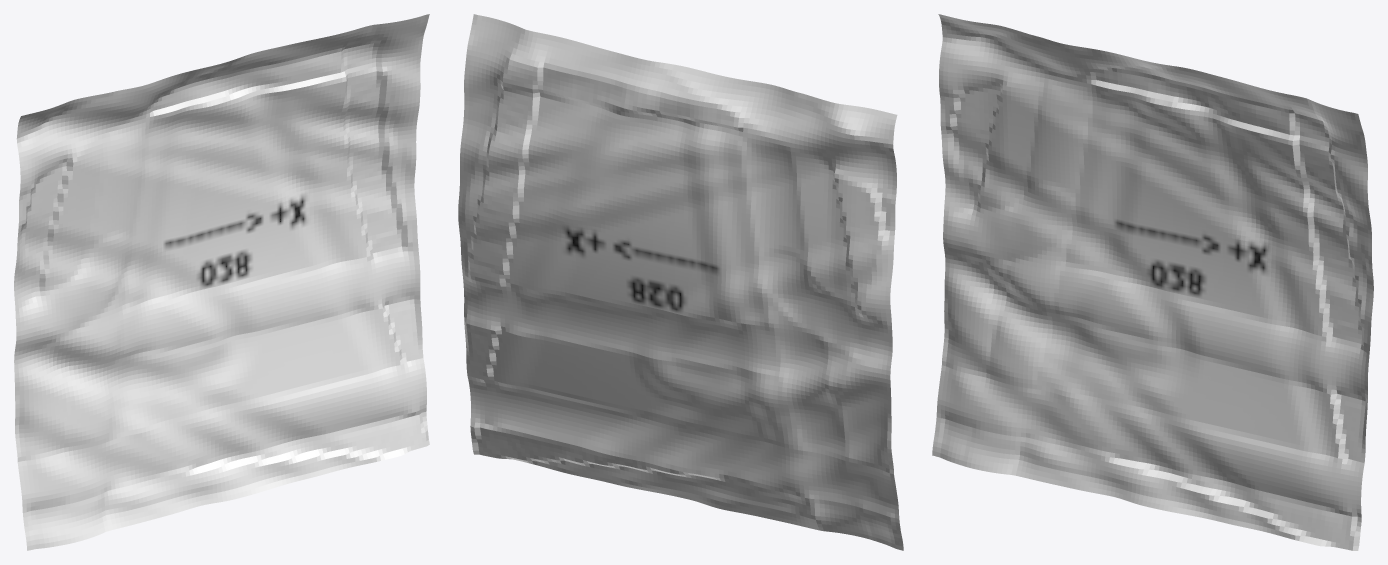
3 views of the same model, side by side, from view 1: azimuth 30°, elevation 25°; view 2: azimuth 150°, elevation 25°; view 3: azimuth 330°, elevation 25° (orthographic). The views are drawn at different scales.
Parts seen in each view (by area): view 1: Ground028; view 2: Ground028; view 3: Ground028.
Boxes of the visible parts, x1,y1,x2,y2 form: Ground028: (14, 14, 429, 550); Ground028: (458, 14, 903, 550); Ground028: (932, 14, 1373, 550).
Size of what is drawn, in the model's own units: 100 by 13.3 by 100.
1 material, 1 textured.
